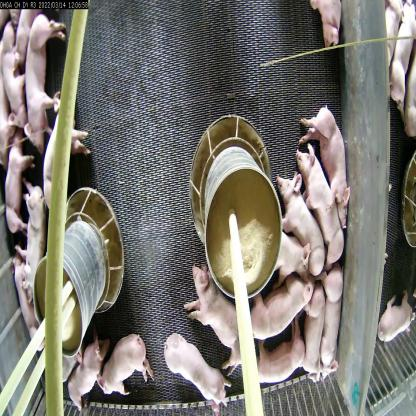Pig: (17, 0, 62, 150), (45, 96, 100, 217), (294, 144, 340, 268), (168, 328, 237, 410), (1, 103, 40, 248), (307, 101, 353, 212), (233, 267, 302, 333), (186, 259, 231, 344), (278, 174, 316, 274), (92, 340, 158, 396), (320, 262, 351, 372), (19, 177, 43, 306), (255, 348, 304, 399), (272, 223, 306, 289), (73, 336, 99, 416), (301, 290, 320, 366)
